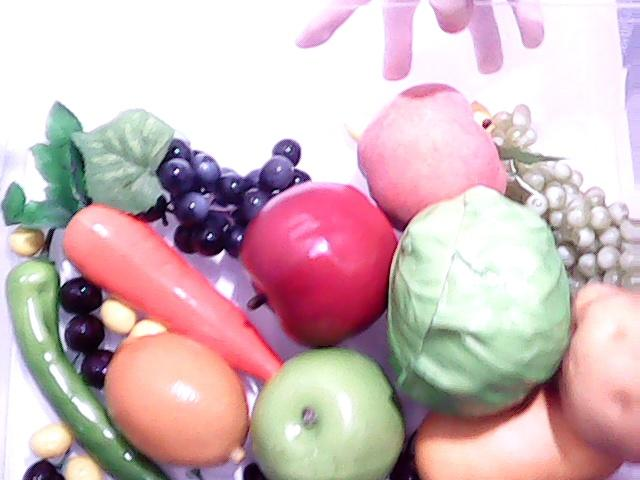apple: (240, 179, 398, 349), (251, 348, 411, 480)
cabbage: (384, 186, 568, 410)
carrot: (0, 100, 284, 388)
grape: (524, 142, 640, 280), (140, 138, 288, 242)
lemon: (92, 323, 284, 479)
mango: (415, 376, 633, 480)
peach: (356, 78, 512, 230)
pepper: (0, 222, 158, 480)
potato: (558, 283, 640, 466)
